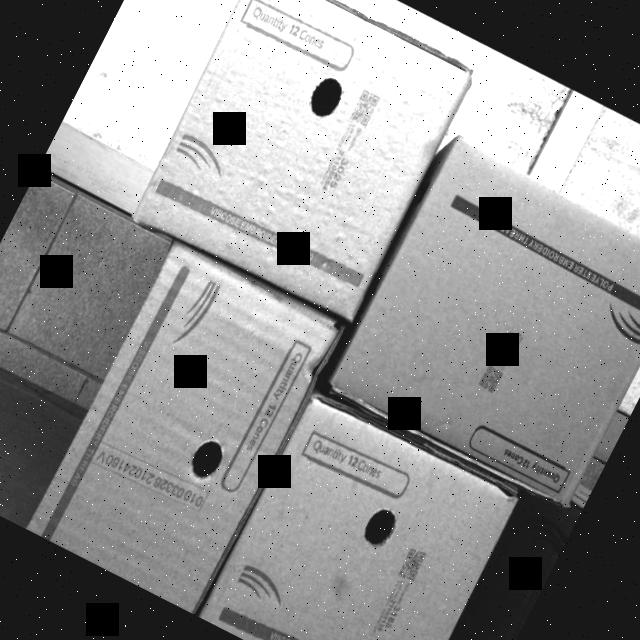box: (328, 137, 640, 507), (32, 242, 340, 614), (131, 0, 480, 324), (200, 393, 523, 640)
